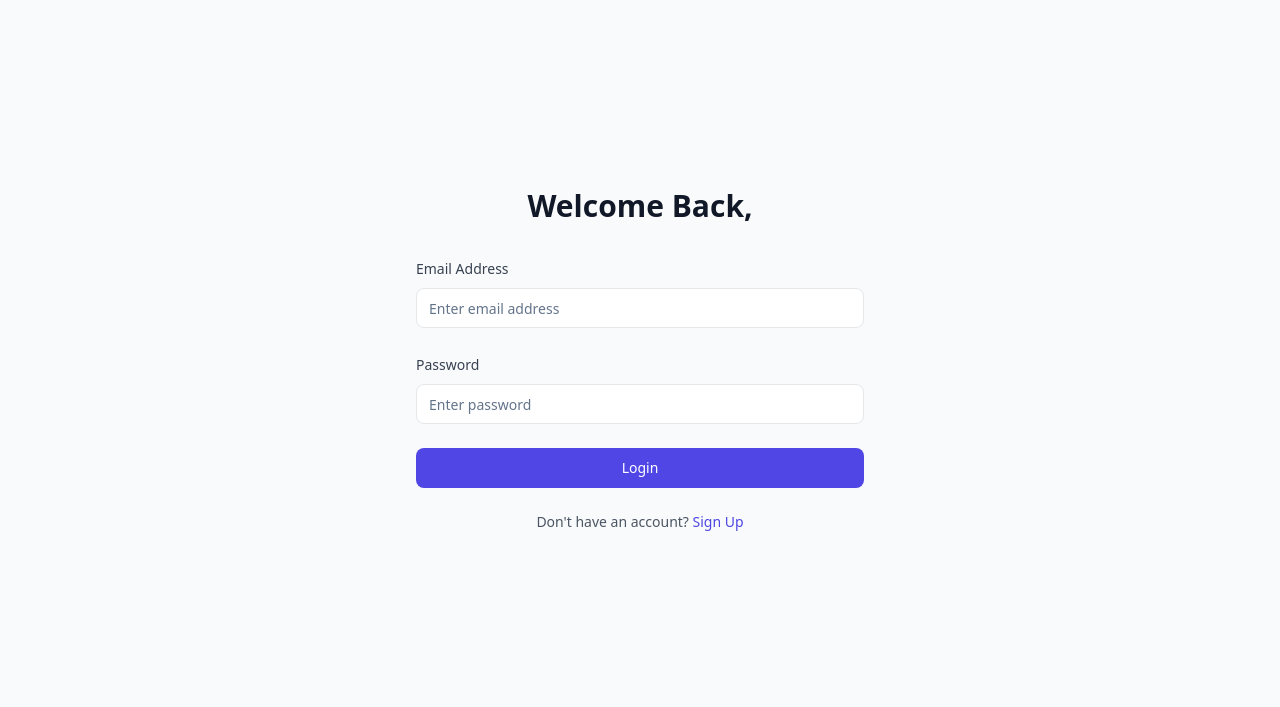
Test: Bookmark Functionality › Authenticated User › should successfully remove a bookmark
Type "test@example.com" into the field labelled "Email Address".
click(640, 308); type("test@example.com")  # box [416, 288, 864, 328]
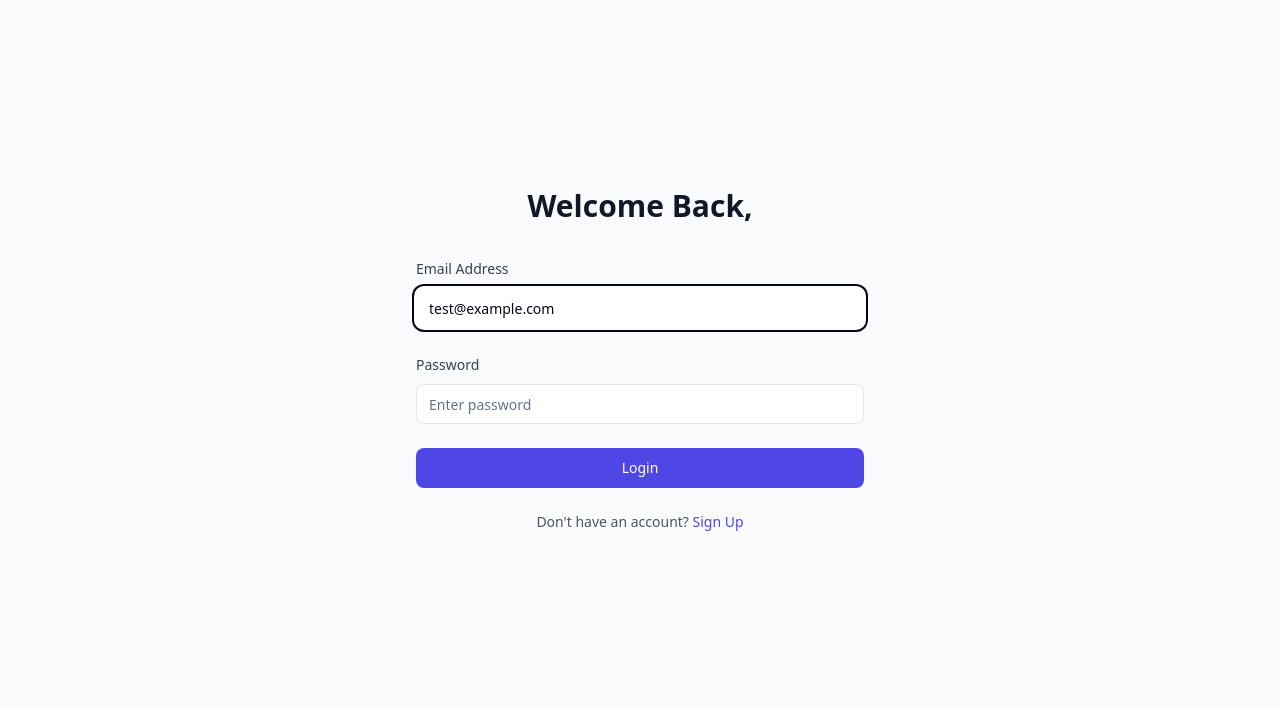
Type "Test123456" into the password field labelled "Password".
click(640, 404); type("Test123456")  # box [416, 384, 864, 424]
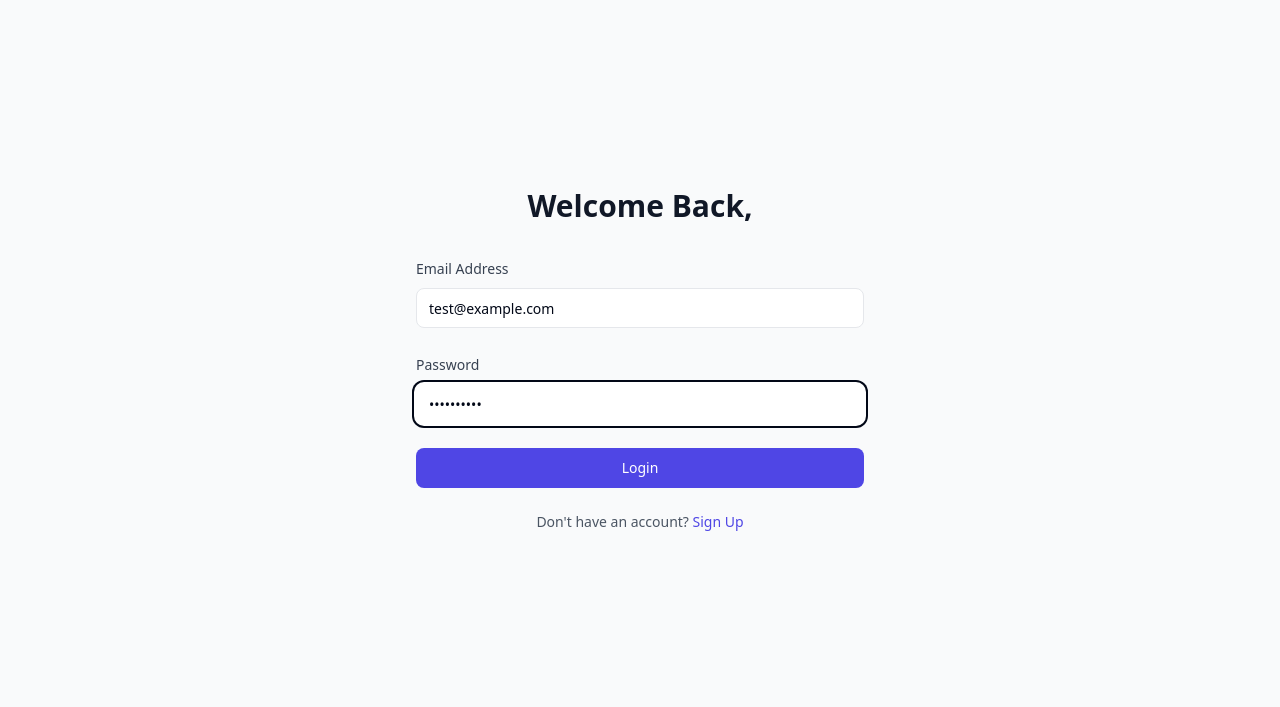
Click the submit button.
click(640, 468)  # box [416, 448, 864, 488]
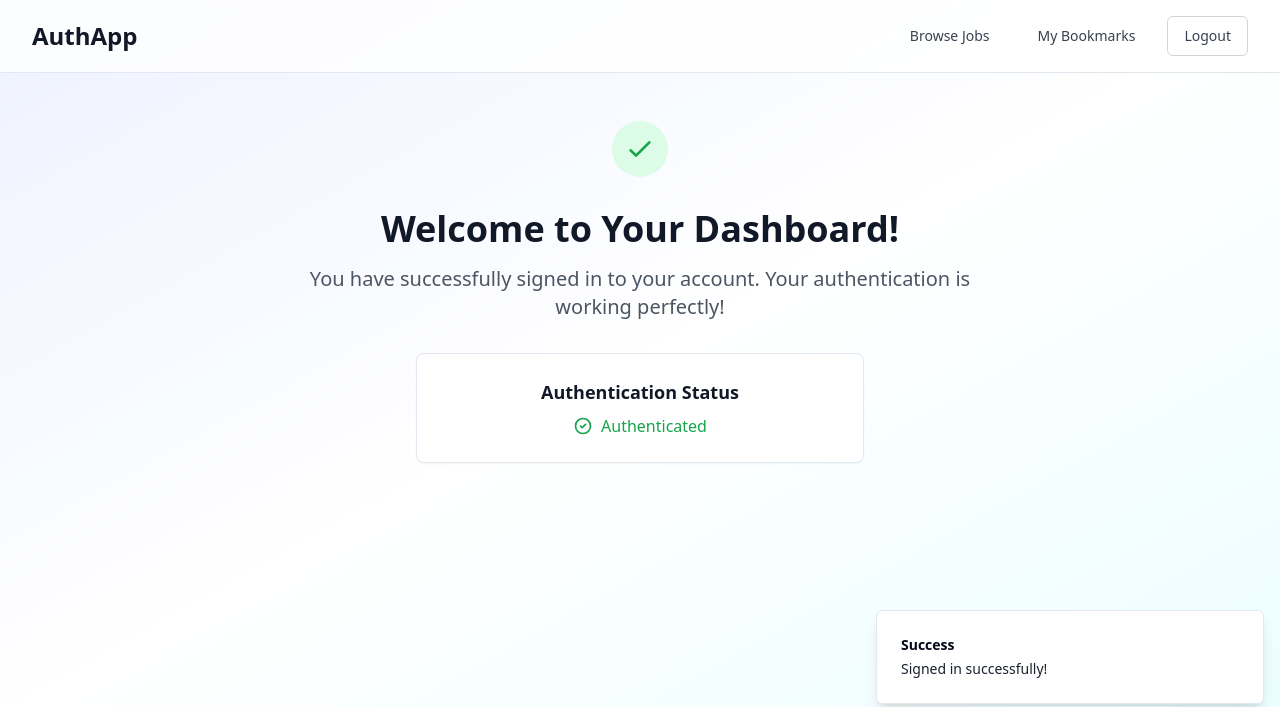
Open "/jobs"
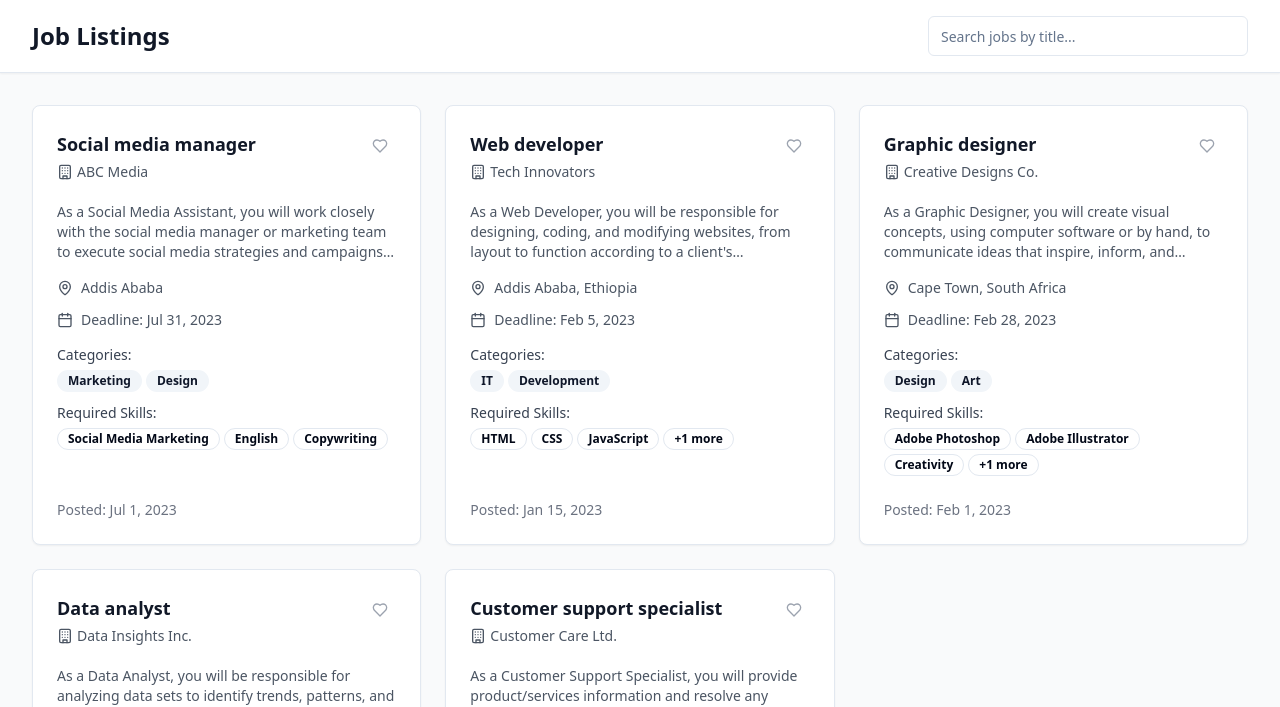
Click the button with test id "bookmark-button".
click(380, 146)  # box [364, 130, 396, 162]
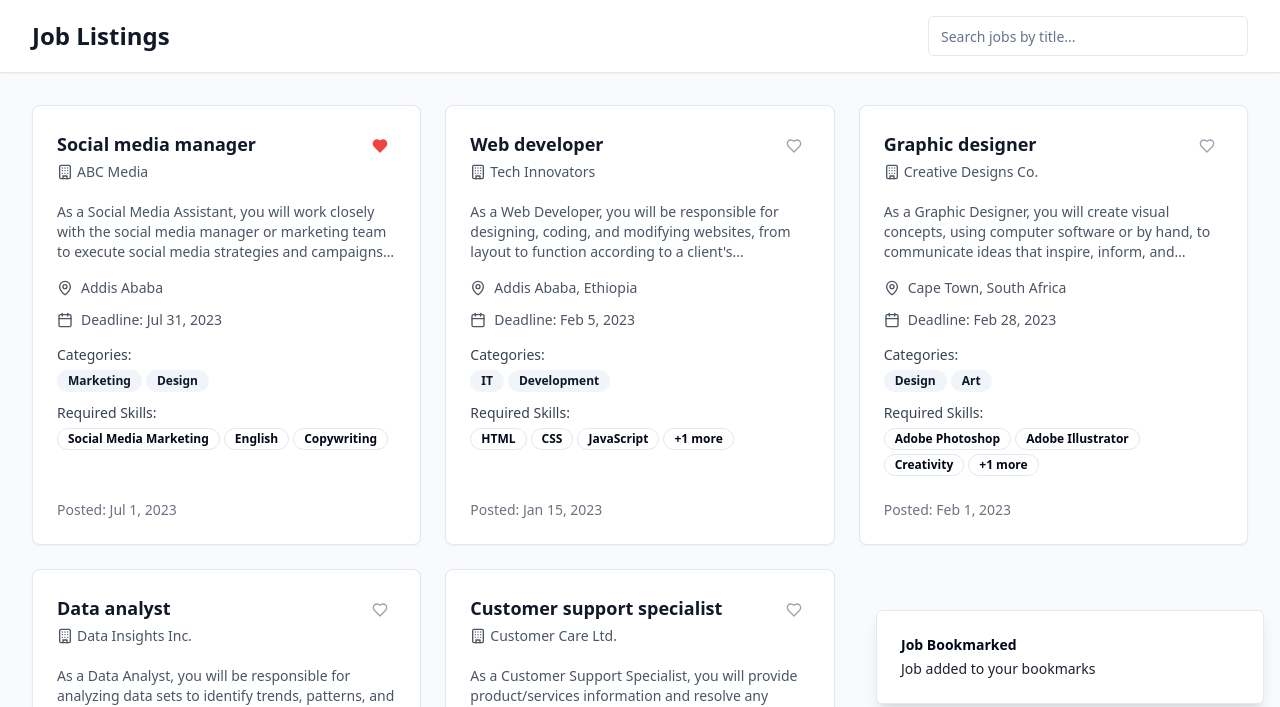
Click the button with test id "bookmark-button".
click(380, 146)  # box [364, 130, 396, 162]
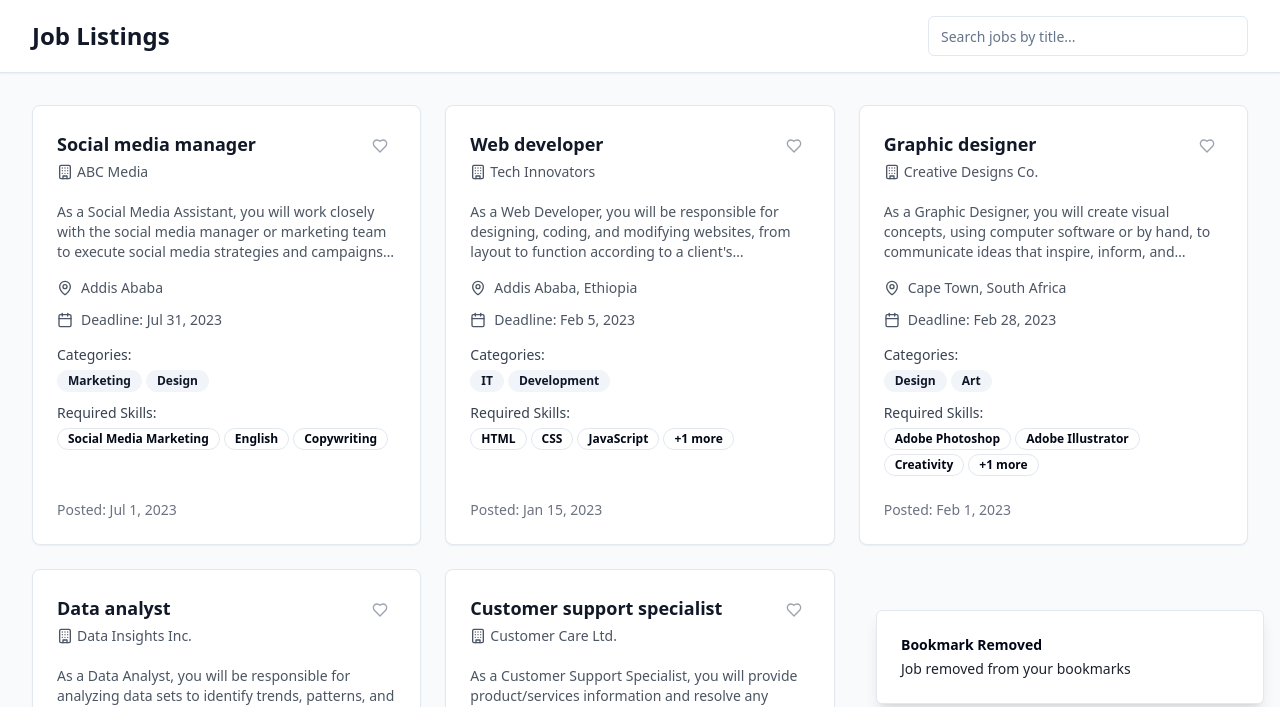
Now the text "Bookmark Removed" is shown, box [901, 635, 1042, 654]
